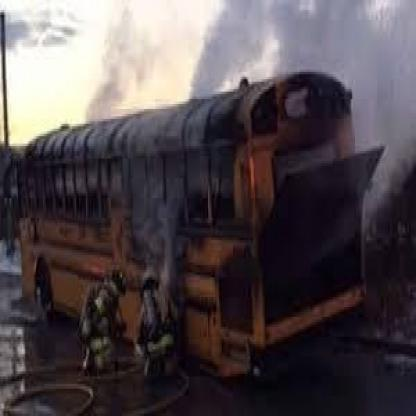smoke: (122, 174, 188, 286)
